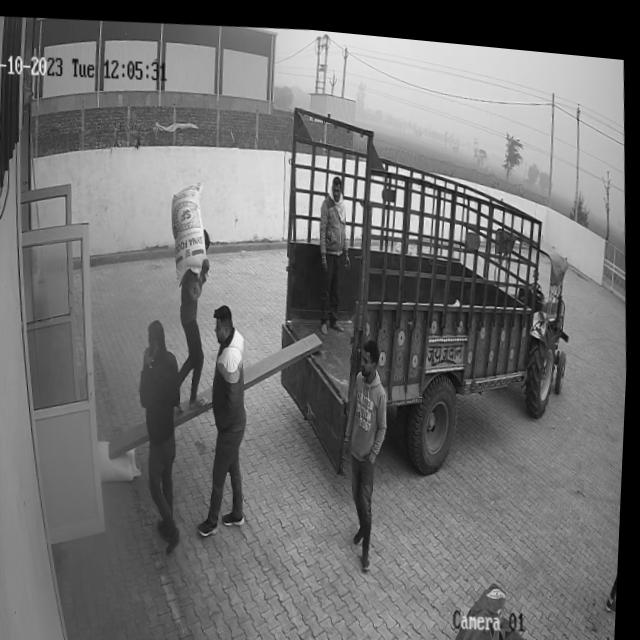sack: (169, 174, 212, 285), (100, 434, 147, 481)
